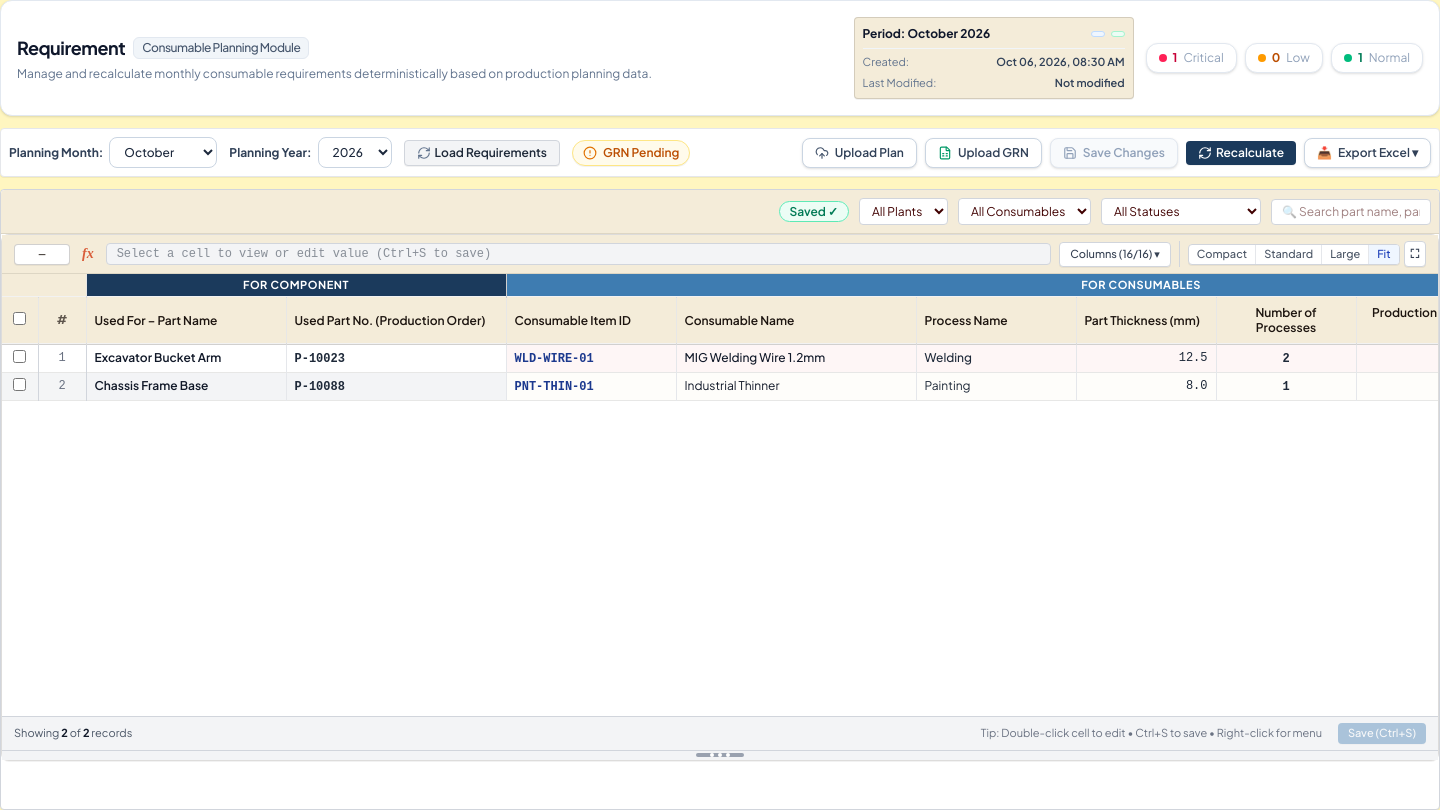
Test: MRP toolbar renders Upload GRN button and opens modal with reconciliation badge
expect the text "MIG Welding Wire 1.2mm" is shown: met, box x1=684 y1=350 x2=825 y2=366
expect the text "GRN Pending" is shown: met, box x1=603 y1=145 x2=679 y2=161
# Click Upload GRN to open modal
What coordinates should you click on to do the following:
click the button "Upload GRN"
I would click on:
 (983, 153)
Its box is x1=925 y1=138 x2=1042 y2=168.
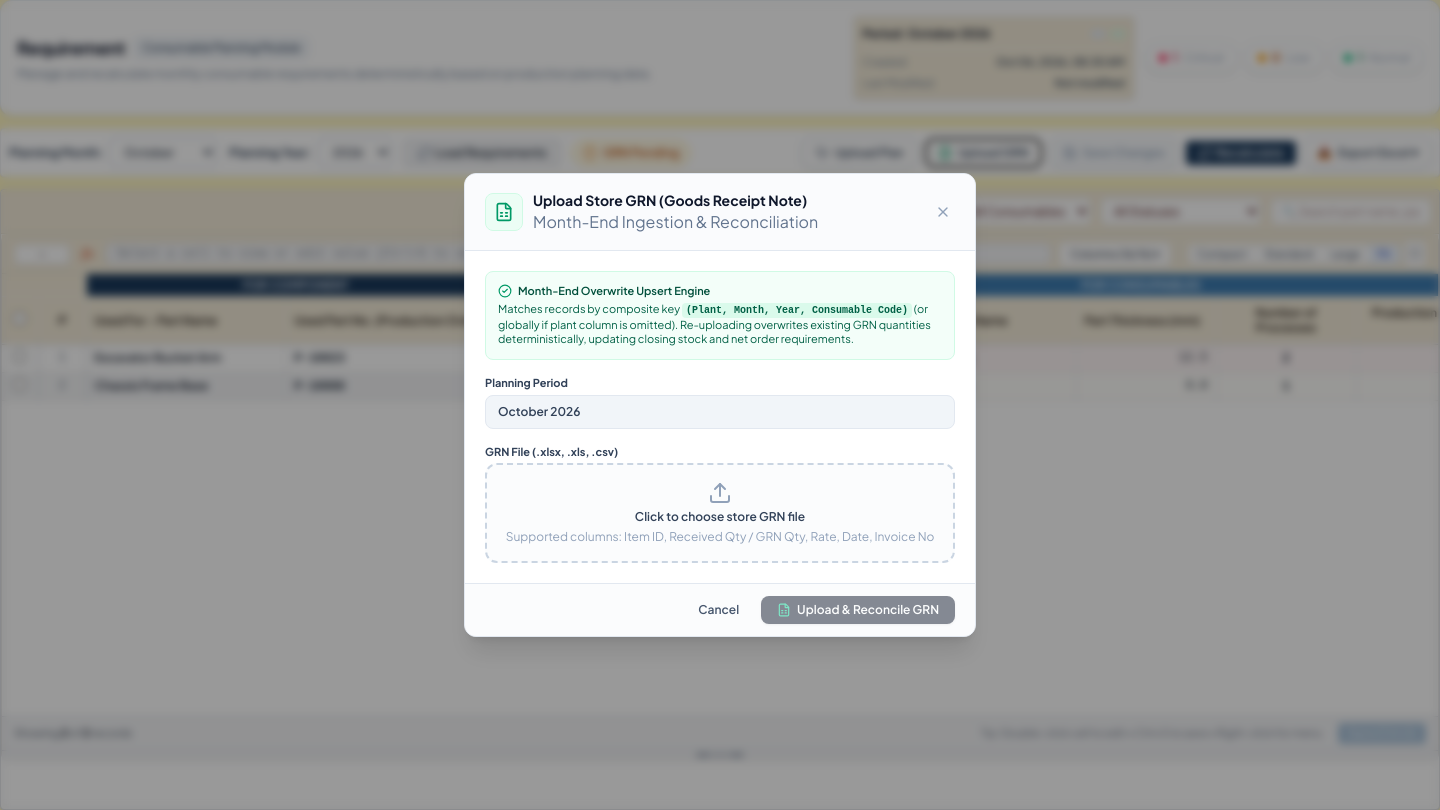
expect the heading "Upload Store GRN (Goods Receipt Note)" is shown: met, box x1=533 y1=190 x2=818 y2=210
expect the text "Planning Period" is shown: met, box x1=485 y1=376 x2=568 y2=389
